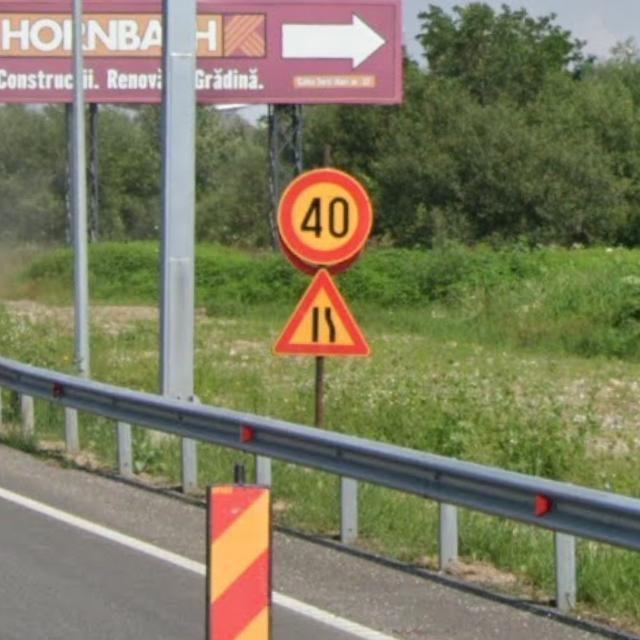forb_speed_over_40: (276, 165, 374, 269)
